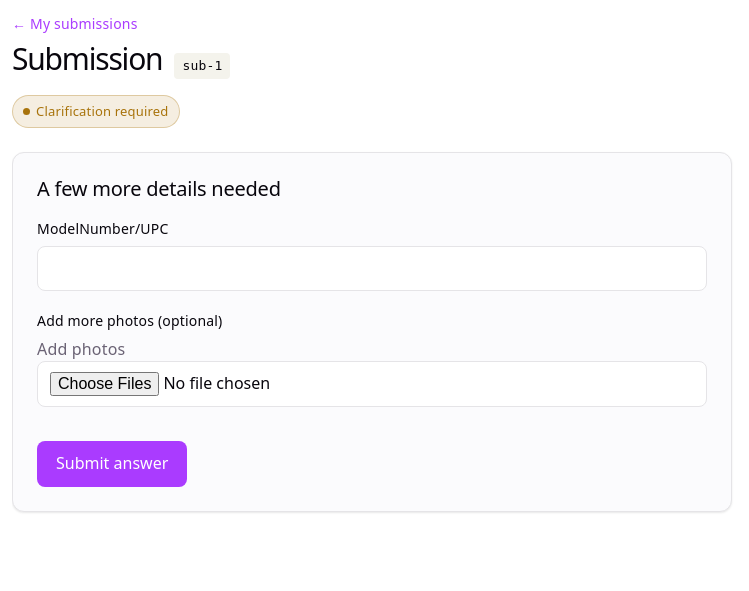
it: SubmissionResult › shows an error message when the answer submission fails
Type "XYZ123" into the field labelled "ModelNumber/UPC".
click(372, 268); type("XYZ123")  # box [37, 246, 707, 291]
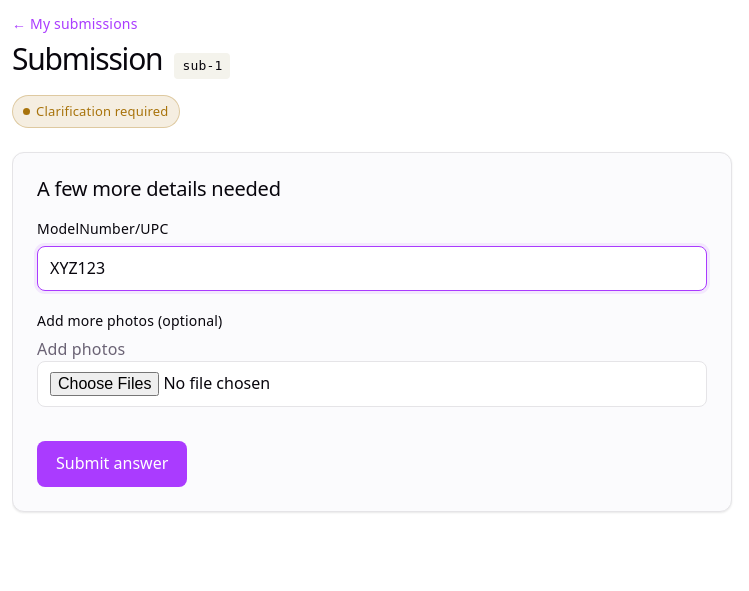
Click the button "Submit answer".
click(112, 464)  # box [37, 441, 187, 486]
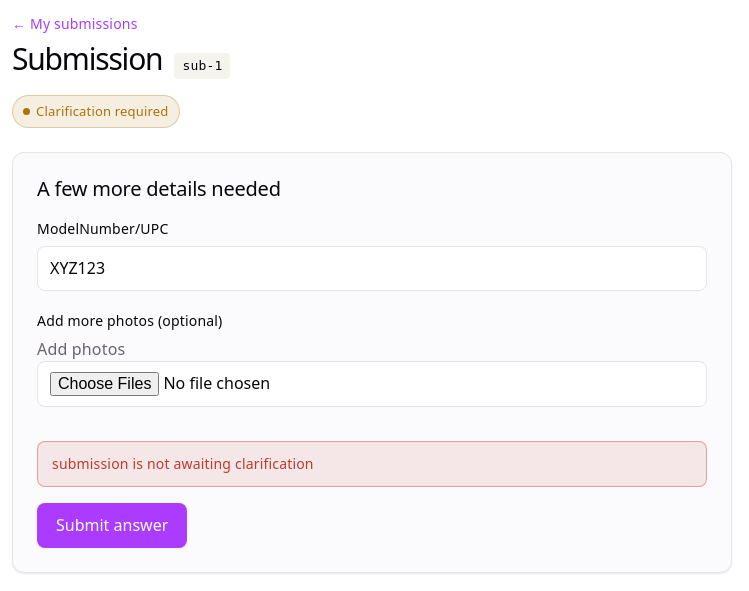
Now the text "submission is not awaiting clarification" is shown, box [37, 441, 707, 486]
